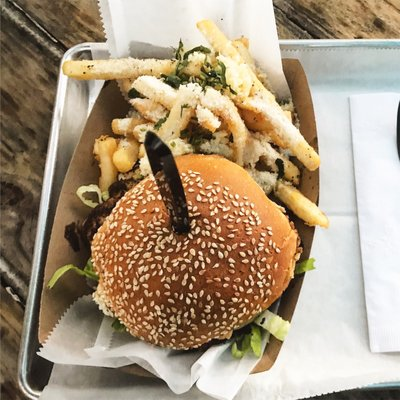soup: (90, 150, 299, 352)
sushi: (19, 10, 385, 400)
